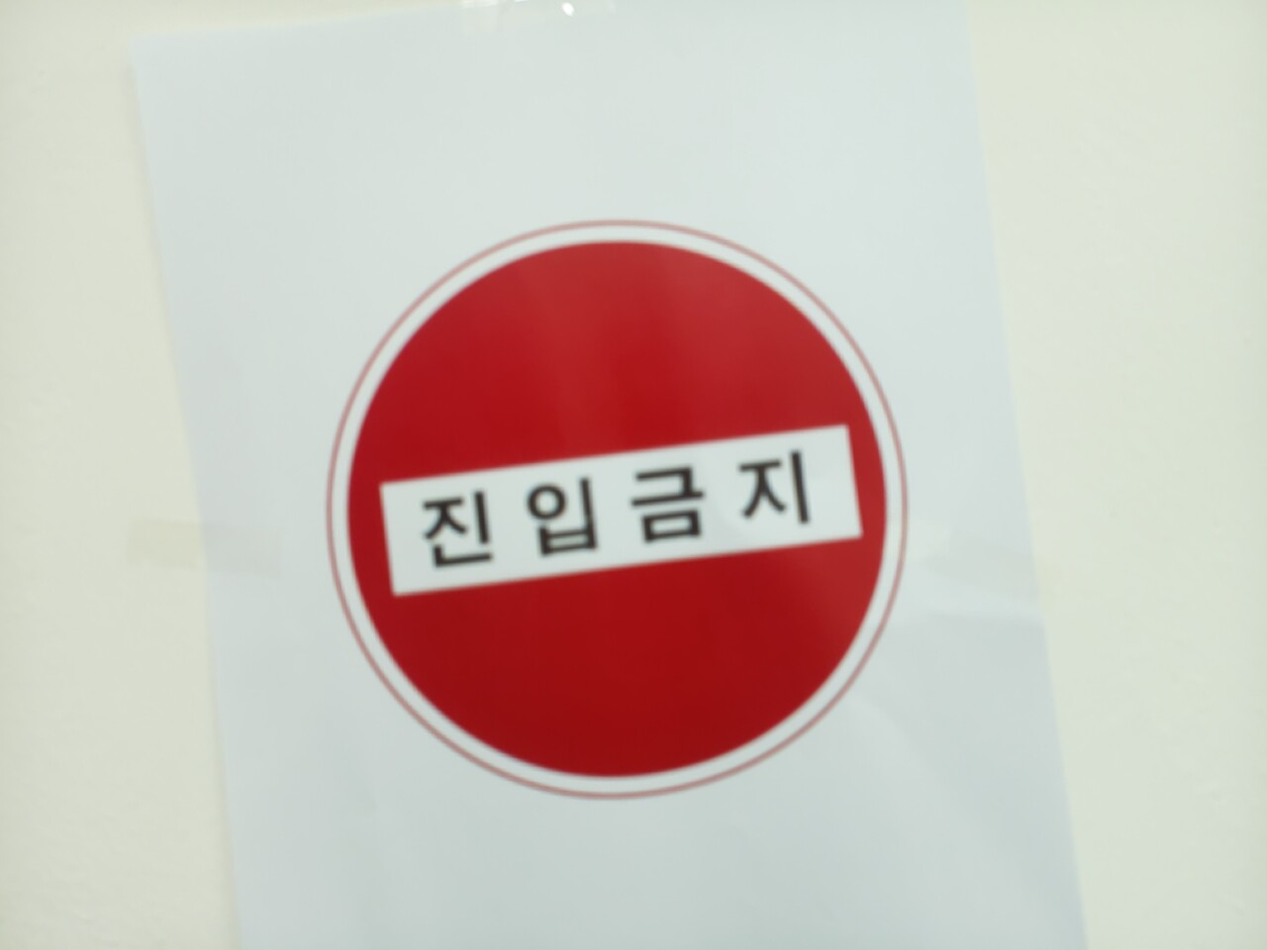do_not_enter: (332, 227, 902, 793)
